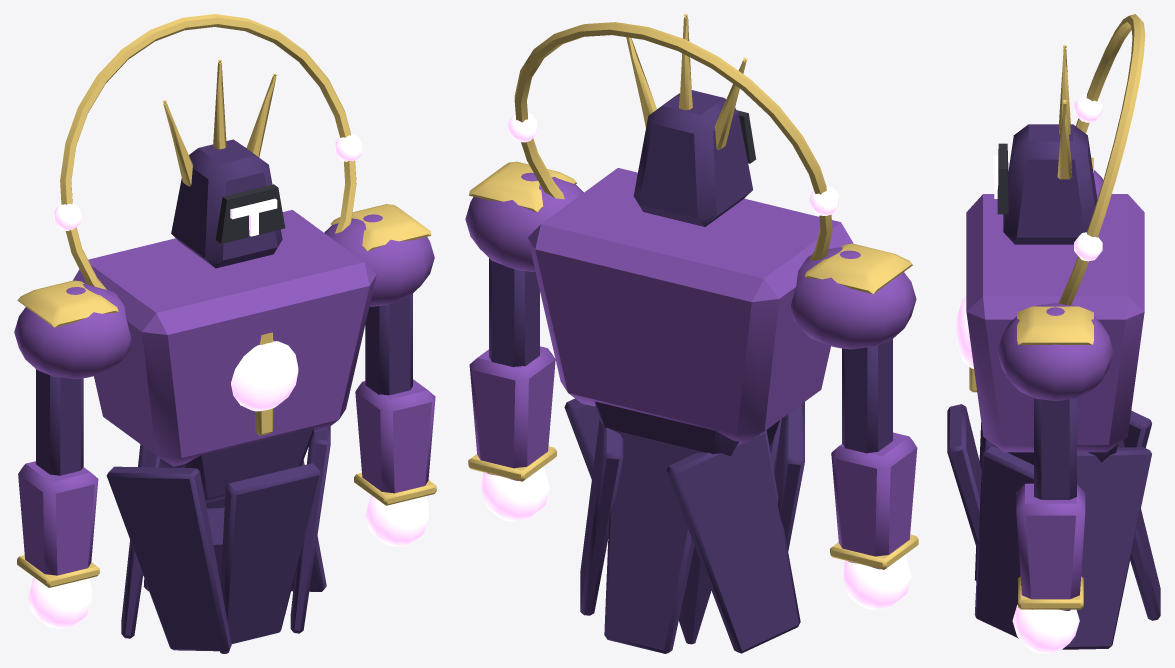
File: boss_void.glb
3 renders of one model, left to right at view 1: azimuth 30°, elevation 25°; view 2: azimuth 150°, elevation 25°; view 3: azimuth 270°, elevation 25°, orthographic. The views are drawn at different scales.
Visible parts, largest first — view 1: torso, armL, armR, head, ring, core; view 2: torso, armL, armR, head, ring; view 3: torso, armR, head, ring, core.
Boxes of the visible parts, box(x1,y1,x2,y2) form: torso: box(73, 210, 376, 653); armL: box(14, 280, 131, 628); armR: box(324, 204, 436, 546); head: box(162, 59, 285, 268); ring: box(54, 14, 362, 289); core: box(231, 341, 298, 411); torso: box(528, 168, 853, 653); armL: box(791, 243, 918, 610); armR: box(465, 161, 583, 521); head: box(626, 14, 756, 226); ring: box(508, 22, 838, 260); torso: box(947, 194, 1160, 649); armR: box(997, 303, 1113, 653); head: box(994, 45, 1097, 244); ring: box(1058, 14, 1145, 305); core: box(955, 296, 973, 368).
Bounding box in the file's own units: 5.06 × 7.18 × 2.28.
